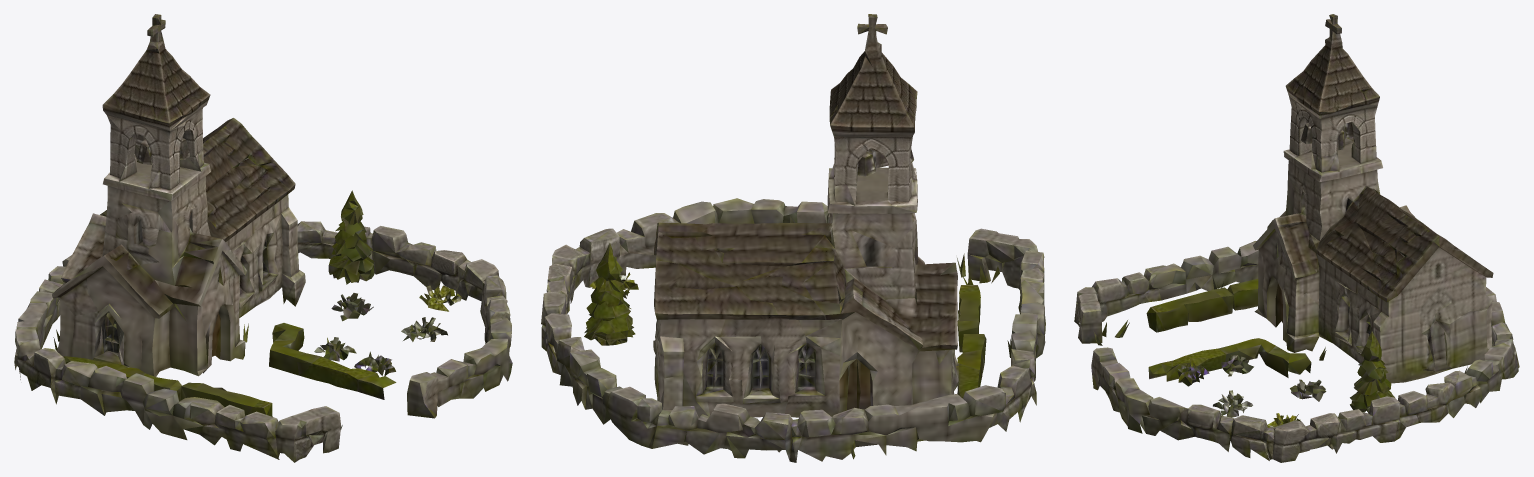
The model's file is abbey.glb.
3 renders of one model, left to right at view 1: azimuth 30°, elevation 25°; view 2: azimuth 150°, elevation 25°; view 3: azimuth 270°, elevation 25°, orthographic. The views are drawn at different scales.
Bounding box in the file's own units: 2.06 × 1.52 × 1.98.
Materials: 1 (1 with a texture image).
